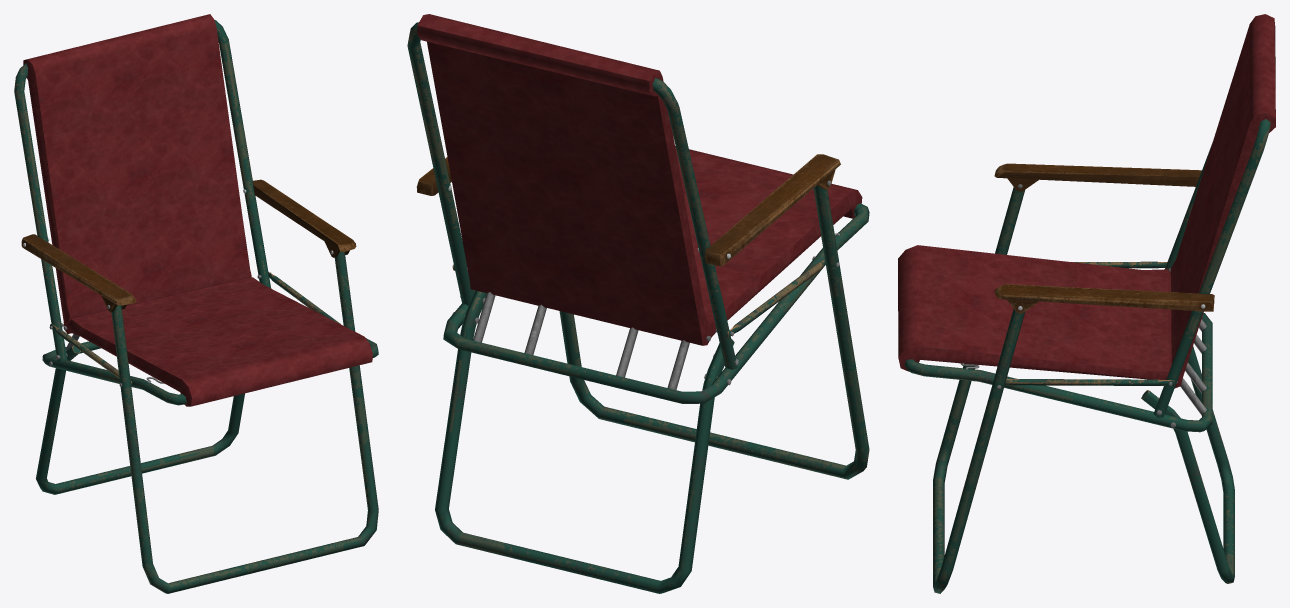
File: chair.fbx
The picture shows the model from 3 angles, left to right: view 1: azimuth 30°, elevation 25°; view 2: azimuth 150°, elevation 25°; view 3: azimuth 270°, elevation 25°; orthographic projection. The views are drawn at different scales.
Visible parts, largest first — view 1: chair; view 2: chair; view 3: chair.
Boxes of the visible parts, x1,y1,x2,y2 form: chair: (14, 14, 378, 593); chair: (407, 14, 869, 593); chair: (898, 14, 1275, 593).
Size of the model in its own units: 36.9 by 61.03 by 43.77.
1 material, 1 textured.
